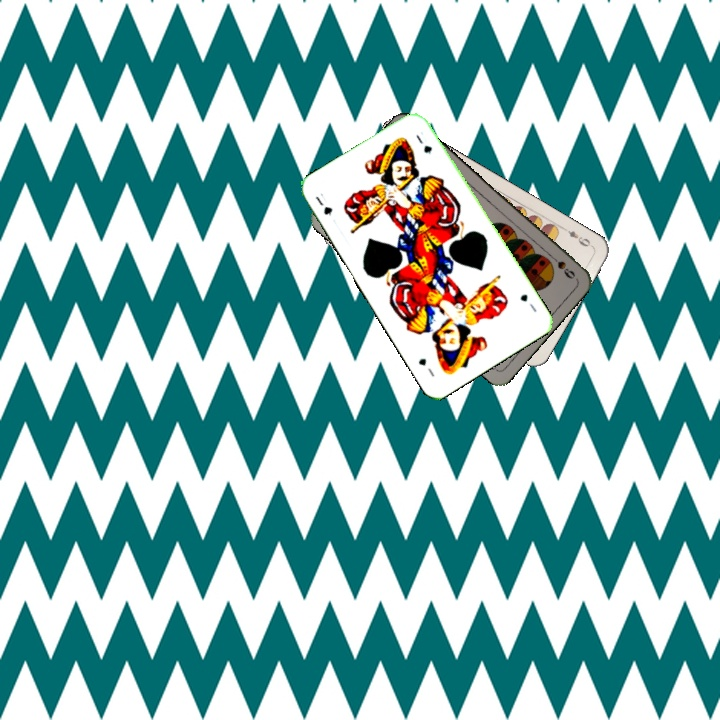E9: (564, 226, 596, 250)
GU: (311, 189, 335, 218), (516, 290, 539, 315)
S9: (545, 250, 578, 282)
